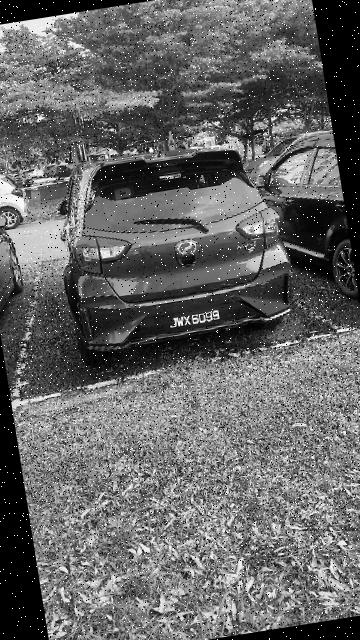License_Plate: (139, 294, 253, 346)
car: (38, 125, 301, 370)
